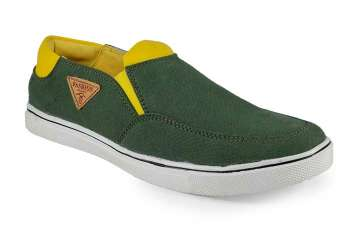Footwear: (16, 28, 339, 199)
